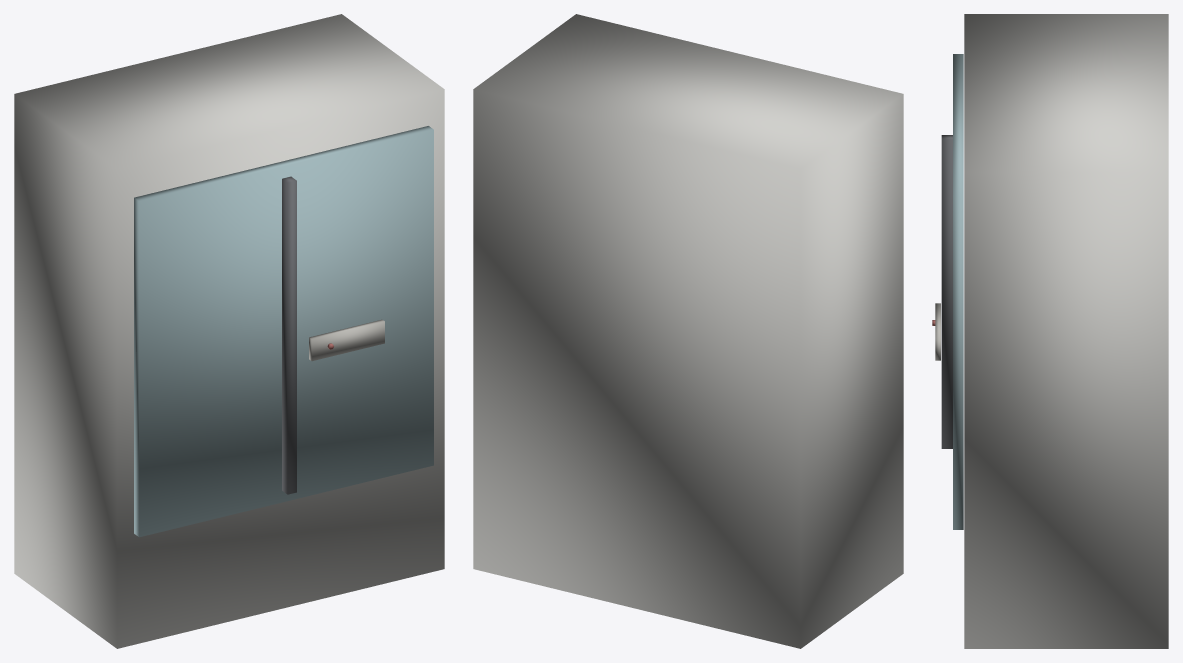
Rendered from refrigerated_display_case.glb.
3 views of the same model, side by side, from view 1: azimuth 30°, elevation 25°; view 2: azimuth 150°, elevation 25°; view 3: azimuth 270°, elevation 25° (orthographic).
Parts seen in each view (by area): view 1: world; view 2: world; view 3: world.
Boxes of the visible parts, box(x1,y1,x2,y2) form: world: box(14, 14, 444, 648); world: box(473, 14, 903, 648); world: box(932, 14, 1168, 648).
Size of the model in its own units: 1.25 by 1.75 by 0.786.
